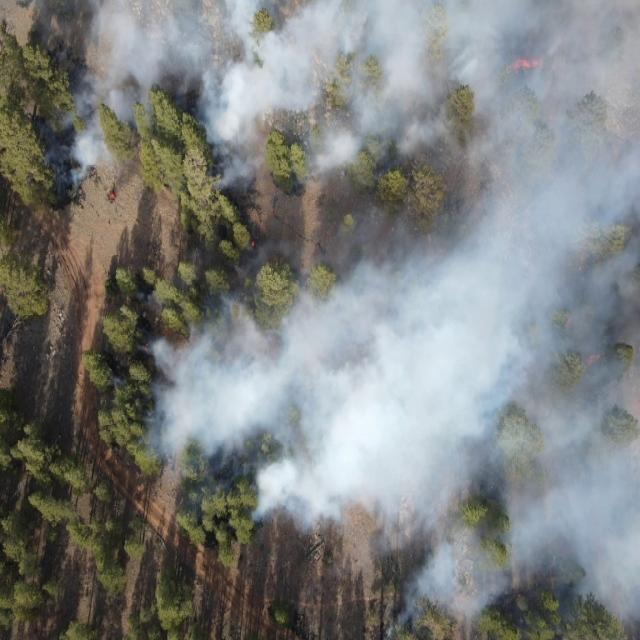fire: (513, 56, 542, 72), (584, 352, 602, 366), (564, 314, 573, 330), (250, 240, 258, 250), (109, 190, 115, 202), (578, 266, 583, 274)
smoke: (346, 0, 640, 640), (150, 237, 346, 538), (49, 0, 347, 189), (98, 363, 126, 388), (130, 287, 148, 309), (136, 342, 150, 352)
